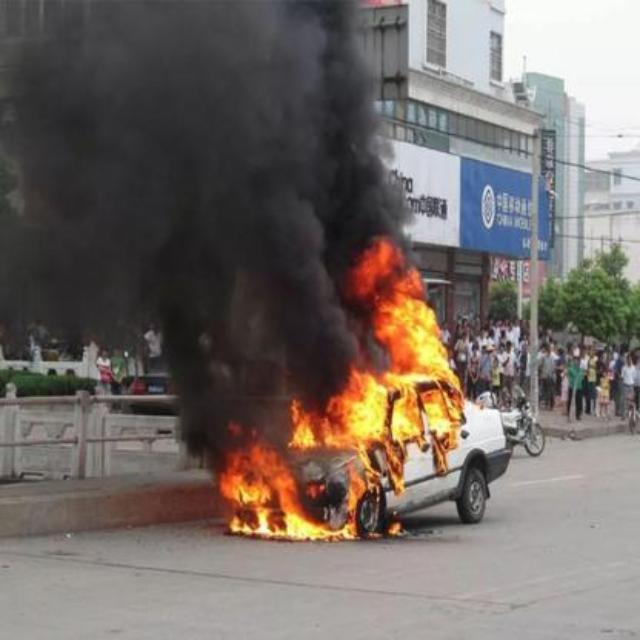Fire: (206, 230, 469, 548)
Smoke: (10, 5, 202, 361), (209, 0, 407, 234)
